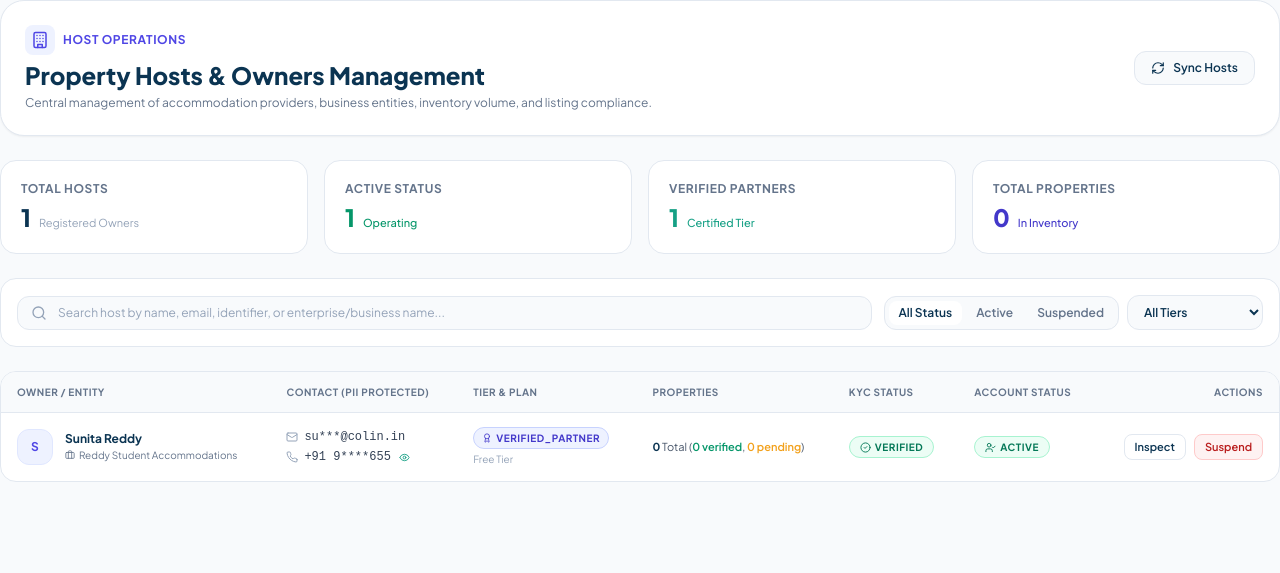
COLIN Master Admin Portal Final Acceptance Audit › Section 3 & 6: Owner Registration Lifecycle & Management › renders AdminOwnersPage and manages owner accounts and tiers
Check: the text "Sunita Reddy" is shown, box [65,431,142,446]
Check: the text "Reddy Student Accommodations" is shown, box [65,447,237,463]
What coordinates should you click on to do the following:
click the button "Suspend"
I would click on:
 (1228, 447)
Its box is [1194,434,1263,460].
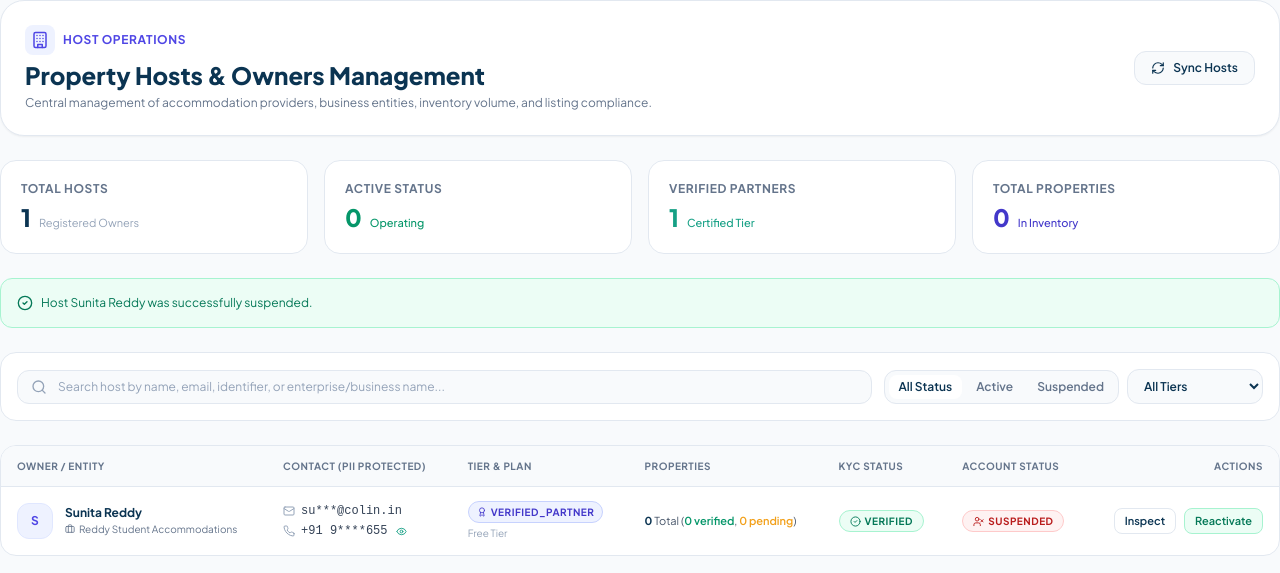
Check: the text "Host Sunita Reddy was successfully suspended." is shown, box [41,295,312,311]
